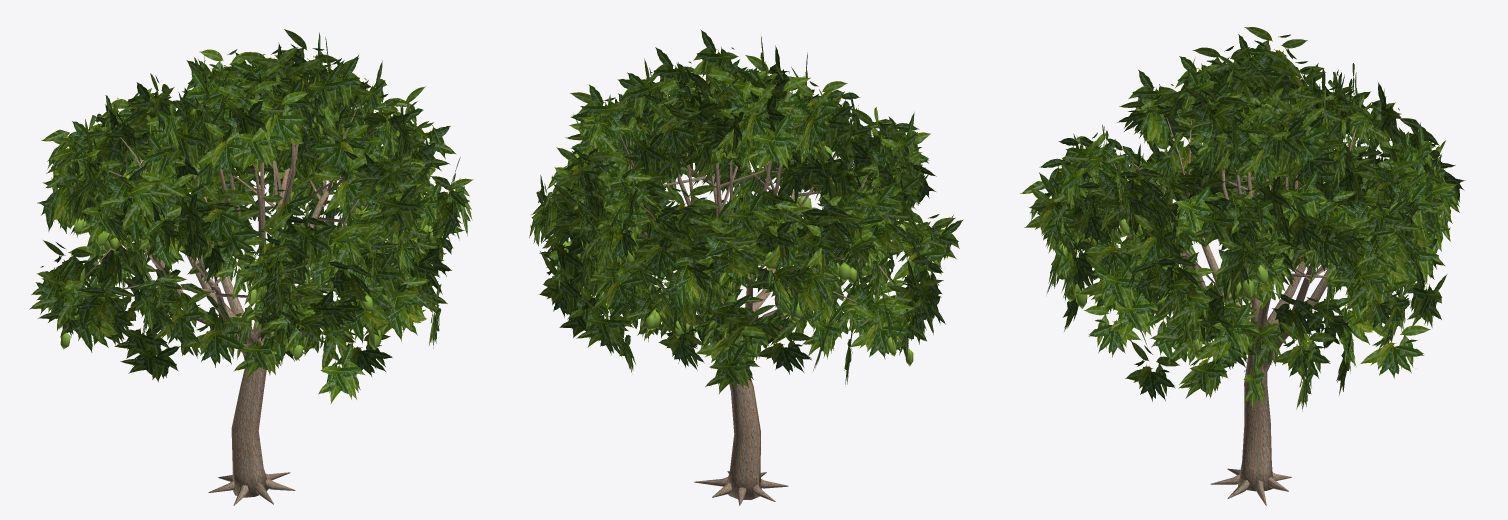
Rendered from MangoTree_Update_LOD0.fbx.
3 views of the same model, side by side, from view 1: azimuth 30°, elevation 25°; view 2: azimuth 150°, elevation 25°; view 3: azimuth 270°, elevation 25° (orthographic).
Parts seen in each view (by area): view 1: Leaves_LOD0, Bark_LOD0, Fruit_Green_LOD0; view 2: Leaves_LOD0, Bark_LOD0, Fruit_Green_LOD0; view 3: Leaves_LOD0, Bark_LOD0, Fruit_Green_LOD0.
Part boxes in pixels (bbox=[...]): Leaves_LOD0: bbox=[29, 29, 473, 404]; Bark_LOD0: bbox=[59, 75, 429, 505]; Fruit_Green_LOD0: bbox=[51, 155, 436, 360]; Leaves_LOD0: bbox=[529, 29, 963, 393]; Bark_LOD0: bbox=[582, 92, 908, 505]; Fruit_Green_LOD0: bbox=[558, 145, 913, 366]; Leaves_LOD0: bbox=[1020, 27, 1465, 411]; Bark_LOD0: bbox=[1061, 101, 1427, 505]; Fruit_Green_LOD0: bbox=[1055, 137, 1432, 359].
Bounding box in the file's own units: 734 × 742 × 733.
